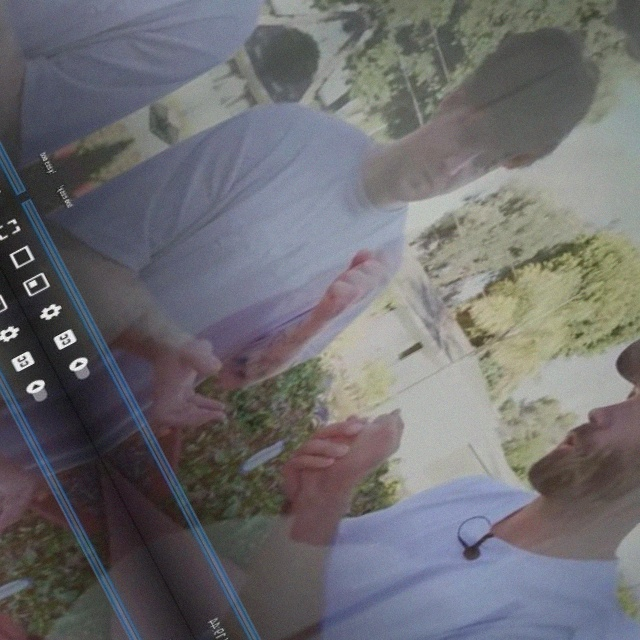Rock: (276, 403, 424, 513), (299, 238, 406, 322)
